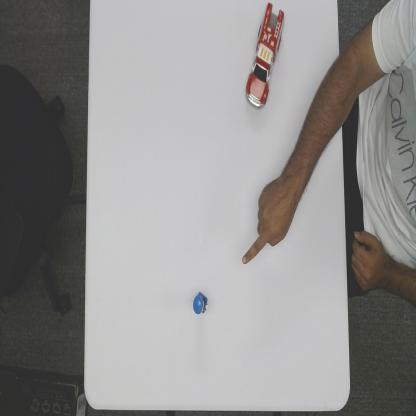Arm: (288, 53, 341, 197)
Firetruck: (245, 1, 285, 110)
Hand: (242, 175, 297, 267)
